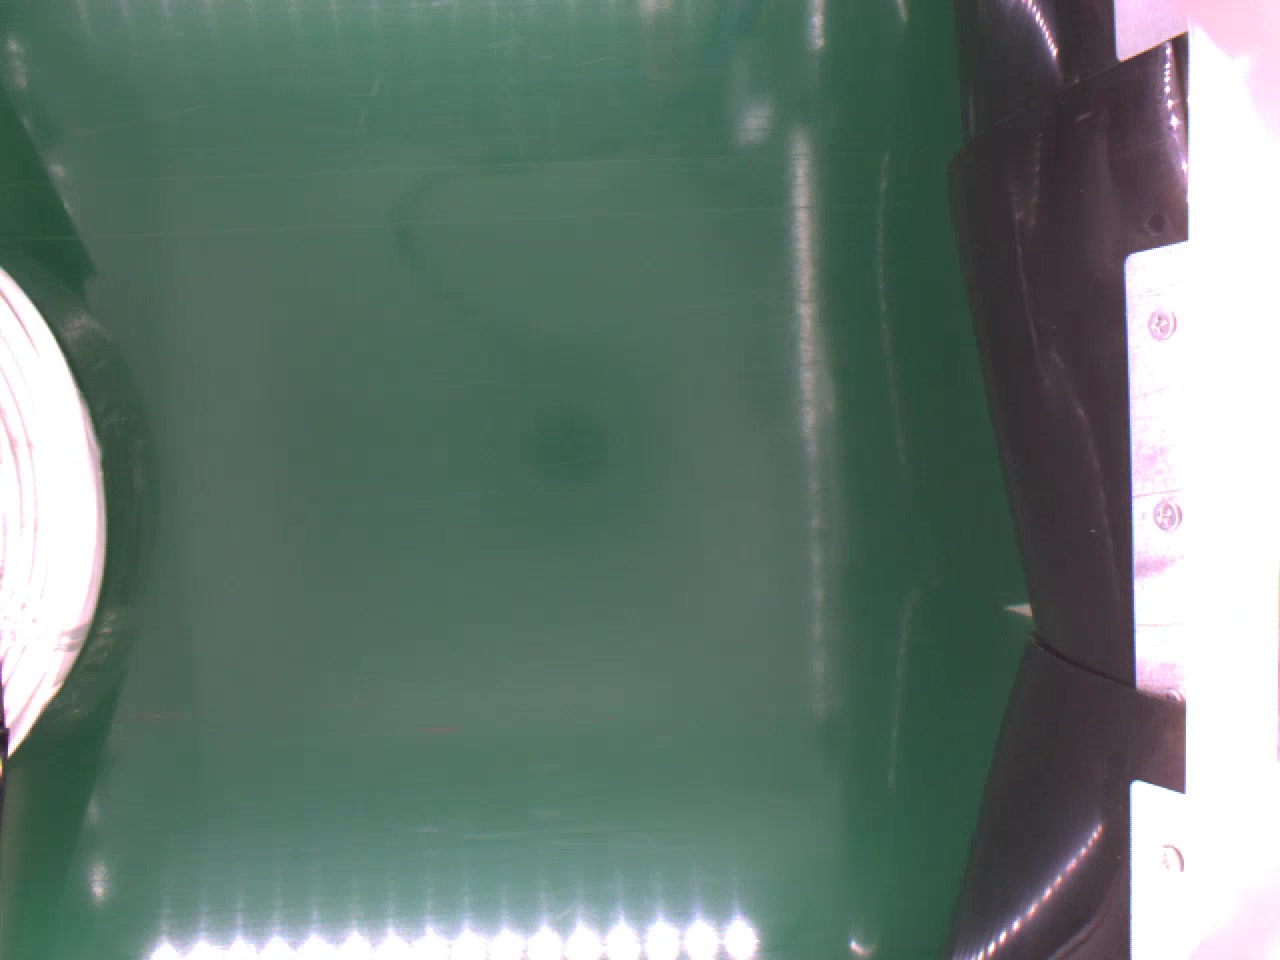white: (0, 267, 110, 751)
